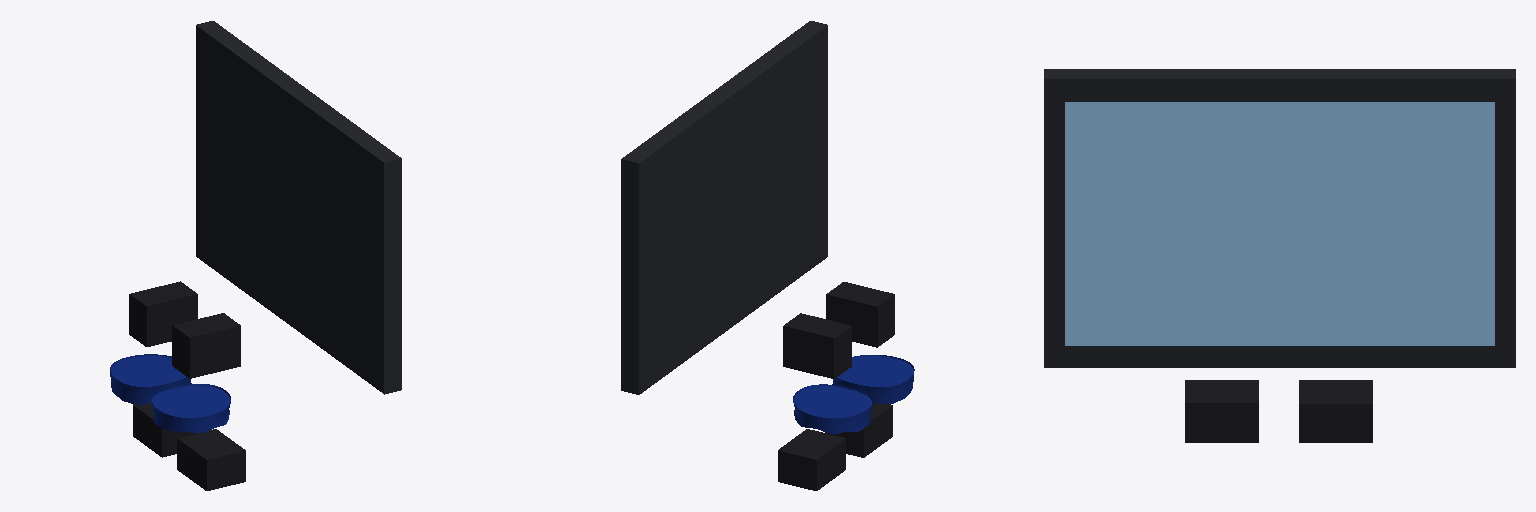
URDF robot description (haetburi):
<?xml version="1.0"?>
<!-- Haetburi biped (v14_xl330_hidden) - generated by tools/build_model.py, do not edit by hand -->
<robot name="haetburi">
  <mujoco>
    <compiler meshdir="." balanceinertia="true" discardvisual="false" strippath="false" fusestatic="false"/>
  </mujoco>
  <material name="display"><color rgba="0.18 0.19 0.21 1"/></material>
  <material name="screen"><color rgba="0.62 0.80 0.95 1"/></material>
  <material name="shell"><color rgba="0.106 0.216 0.541 1"/></material>
  <material name="motor"><color rgba="0.15 0.15 0.17 1"/></material>
  <material name="foot"><color rgba="0.25 0.25 0.28 1"/></material>
  <link name="world"/>
  <joint name="floating_base" type="floating">
    <parent link="world"/><child link="pelvis"/>
    <origin xyz="0 0 0" rpy="0 0 0"/>
  </joint>
  <link name="pelvis">
    <inertial>
      <origin xyz="0.013204 -6.80025e-05 0.0279184" rpy="0 0 0"/>
      <mass value="0.243447"/>
      <inertia ixx="0.000160081" ixy="-1.83796e-07" ixz="-1.12671e-05" iyy="0.000118431" iyz="-1.12016e-08" izz="0.00020895"/>
    </inertial>
    <visual><origin xyz="0 0 0" rpy="0 0 0"/><geometry><mesh filename="meshes/pelvis.stl"/></geometry><material name="shell"/></visual>
    <visual><origin xyz="0.00880265 0.0245857 0.033" rpy="0 0 0"/><geometry><box size="0.034 0.02 0.026"/></geometry><material name="motor"/></visual>
    <visual><origin xyz="0.00879735 -0.024889 0.033" rpy="0 0 0"/><geometry><box size="0.034 0.02 0.026"/></geometry><material name="motor"/></visual>
    <collision><origin xyz="0.0074988 -0.000146911 0.02623" rpy="0 0 0"/><geometry><box size="0.089907 0.119391 0.05246"/></geometry></collision>
  </link>
  <link name="torso">
    <inertial>
      <origin xyz="0.0216135 0.000104354 0.130744" rpy="0 0 0"/>
      <mass value="2.17652"/>
      <inertia ixx="0.0357799" ixy="-0.000105021" ixz="0.00644111" iyy="0.035995" iyz="-0.000101018" izz="0.0196717"/>
    </inertial>
    <visual><origin xyz="0 0 0" rpy="0 0 0"/><geometry><mesh filename="meshes/torso.stl"/></geometry><material name="shell"/></visual>
    <visual><origin xyz="0.0843686 0 0.0406669" rpy="0 0 0"/><geometry><box size="0.011868 0.217236 0.146854"/></geometry><material name="display"/></visual>
    <visual><origin xyz="0.0903026 0 0.0406669" rpy="0 0 0"/><geometry><box size="0.0004 0.198144 0.12384"/></geometry><material name="screen"/></visual>
    <collision><origin xyz="-0.0391719 -1.82352e-06 0.0288995" rpy="0 0 0"/><geometry><box size="0.183869 0.124676 0.122779"/></geometry></collision>
    <collision><origin xyz="0.0478332 0.0965728 0.0582346" rpy="0 0 0"/><geometry><sphere radius="0.0698567"/></geometry></collision>
    <collision><origin xyz="0.0481639 -0.0967208 0.0582346" rpy="0 0 0"/><geometry><sphere radius="0.0697895"/></geometry></collision>
    <collision><origin xyz="-0.00600387 0.000307043 0.117894" rpy="0 0 0"/><geometry><sphere radius="0.119818"/></geometry></collision>
    <collision><origin xyz="-0.010462 -0.000141163 0.173068" rpy="0 0 0"/><geometry><sphere radius="0.138234"/></geometry></collision>
    <collision><origin xyz="-0.0159306 -0.000232984 0.22825" rpy="0 0 0"/><geometry><sphere radius="0.136633"/></geometry></collision>
    <collision><origin xyz="-0.0124975 0.000984204 0.28343" rpy="0 0 0"/><geometry><sphere radius="0.118808"/></geometry></collision>
    <collision><origin xyz="-0.00739515 0.00779025 0.338644" rpy="0 0 0"/><geometry><sphere radius="0.0846824"/></geometry></collision>
    <collision><origin xyz="-0.0135526 -0.00257485 0.393809" rpy="0 0 0"/><geometry><sphere radius="0.0491437"/></geometry></collision>
    <collision><origin xyz="0.0843686 0 0.0406669" rpy="0 0 0"/><geometry><box size="0.011868 0.217236 0.146854"/></geometry></collision>
  </link>
  <link name="leg_l">
    <inertial>
      <origin xyz="-0.000508975 -0.000183575 -0.0195231" rpy="0 0 0"/>
      <mass value="0.0225079"/>
      <inertia ixx="6.65119e-06" ixy="-5.81697e-09" ixz="1.20773e-07" iyy="5.40051e-06" iyz="5.6035e-08" izz="5.95579e-06"/>
    </inertial>
    <visual><origin xyz="0 0 0" rpy="0 0 0"/><geometry><mesh filename="meshes/leg_l.stl"/></geometry><material name="shell"/></visual>
    <collision><origin xyz="-5.688e-07 -7.84141e-06 -0.00614087" rpy="0 0 0"/><geometry><box size="0.0468988 0.0429672 0.0122817"/></geometry></collision>
  </link>
  <link name="foot_l">
    <inertial>
      <origin xyz="0.000570459 0.00729492 -0.00247672" rpy="0 0 0"/>
      <mass value="0.0748228"/>
      <inertia ixx="1.96951e-05" ixy="-9.29192e-07" ixz="-2.12843e-07" iyy="2.7127e-05" iyz="-1.3687e-06" izz="3.21932e-05"/>
    </inertial>
    <visual><origin xyz="0 0 0" rpy="0 0 0"/><geometry><mesh filename="meshes/foot_l.stl"/></geometry><material name="shell"/></visual>
    <visual><origin xyz="0 0.0088 5.38845e-19" rpy="0 0 0"/><geometry><box size="0.026 0.034 0.02"/></geometry><material name="motor"/></visual>
    <collision><origin xyz="0 0 0" rpy="0 0 0"/><geometry><mesh filename="meshes/foot_l.stl"/></geometry></collision>
  </link>
  <link name="leg_r">
    <inertial>
      <origin xyz="-0.000380039 0.000211182 -0.0194096" rpy="0 0 0"/>
      <mass value="0.0226203"/>
      <inertia ixx="6.72151e-06" ixy="-2.6397e-08" ixz="9.49715e-08" iyy="5.40501e-06" iyz="-6.45487e-08" izz="6.00873e-06"/>
    </inertial>
    <visual><origin xyz="0 0 0" rpy="0 0 0"/><geometry><mesh filename="meshes/leg_r.stl"/></geometry><material name="shell"/></visual>
    <collision><origin xyz="1.35836e-06 1.24311e-05 -0.00606212" rpy="0 0 0"/><geometry><box size="0.0468608 0.0430498 0.0121242"/></geometry></collision>
  </link>
  <link name="foot_r">
    <inertial>
      <origin xyz="0.000927024 -0.00706758 -0.0025199" rpy="0 0 0"/>
      <mass value="0.0746564"/>
      <inertia ixx="1.95107e-05" ixy="1.01942e-06" ixz="-2.354e-07" iyy="2.70292e-05" iyz="1.32726e-06" izz="3.20543e-05"/>
    </inertial>
    <visual><origin xyz="0 0 0" rpy="0 0 0"/><geometry><mesh filename="meshes/foot_r.stl"/></geometry><material name="shell"/></visual>
    <visual><origin xyz="0 -0.0088 5.38845e-19" rpy="0 0 0"/><geometry><box size="0.026 0.034 0.02"/></geometry><material name="motor"/></visual>
    <collision><origin xyz="0 0 0" rpy="0 0 0"/><geometry><mesh filename="meshes/foot_r.stl"/></geometry></collision>
  </link>
  <joint name="waist_fixed" type="fixed">
    <parent link="pelvis"/><child link="torso"/>
    <origin xyz="0 0 0.05246" rpy="0 0 0"/>
  </joint>
  <joint name="hip_yaw_l" type="revolute">
    <parent link="pelvis"/><child link="leg_l"/>
    <origin xyz="2.6481e-06 0.0245857 0" rpy="0 0 0"/>
    <axis xyz="0 0 1"/>
    <limit lower="-0.523599" upper="0.523599" effort="0.52" velocity="10.79"/>
    <dynamics damping="0.037142857142857144" friction="0.014857142857142859"/>
  </joint>
  <joint name="hip_yaw_r" type="revolute">
    <parent link="pelvis"/><child link="leg_r"/>
    <origin xyz="-2.6481e-06 -0.024889 0" rpy="0 0 0"/>
    <axis xyz="0 0 1"/>
    <limit lower="-0.523599" upper="0.523599" effort="0.52" velocity="10.79"/>
    <dynamics damping="0.037142857142857144" friction="0.014857142857142859"/>
  </joint>
  <joint name="ankle_roll_l" type="revolute">
    <parent link="leg_l"/><child link="foot_l"/>
    <origin xyz="0.0116813 -0.00742343 -0.03924" rpy="0 0 0"/>
    <axis xyz="1 0 0"/>
    <limit lower="-0.261799" upper="0.261799" effort="0.52" velocity="10.79"/>
    <dynamics damping="0.037142857142857144" friction="0.014857142857142859"/>
  </joint>
  <joint name="ankle_roll_r" type="revolute">
    <parent link="leg_r"/><child link="foot_r"/>
    <origin xyz="0.0109417 0.00699945 -0.03924" rpy="0 0 0"/>
    <axis xyz="1 0 0"/>
    <limit lower="-0.261799" upper="0.261799" effort="0.52" velocity="10.79"/>
    <dynamics damping="0.037142857142857144" friction="0.014857142857142859"/>
  </joint>
</robot>

--- Facts derived from the render (not from the file) ---
Views: 3 orthographic renders of the robot side by side, from view 1: azimuth 30°, elevation 25°; view 2: azimuth 150°, elevation 25°; view 3: azimuth 270°, elevation 25°.
Robot: haetburi — 7 links, 6 joints (4 revolute, 1 fixed, 1 floating); root link world; default pose: all joints at 0.
Visible links, largest first — view 1: torso, pelvis, foot_r, leg_r, leg_l, foot_l; view 2: torso, pelvis, foot_l, leg_l, leg_r, foot_r; view 3: torso, foot_l, foot_r.
Boxes of the visible links, <box> form: torso: <box>196,21,401,394</box>; pelvis: <box>129,281,240,378</box>; foot_r: <box>177,429,245,490</box>; leg_r: <box>151,384,230,432</box>; leg_l: <box>110,354,191,404</box>; foot_l: <box>133,403,196,457</box>; torso: <box>621,21,827,394</box>; pelvis: <box>783,282,894,378</box>; foot_l: <box>778,429,845,490</box>; leg_l: <box>793,384,872,433</box>; leg_r: <box>832,355,914,403</box>; foot_r: <box>825,403,892,457</box>; torso: <box>1044,69,1515,367</box>; foot_l: <box>1299,380,1372,442</box>; foot_r: <box>1185,380,1258,442</box>.
Bounding box of the posed robot: 0.1139 × 0.2172 × 0.2158 m (x, y, z).
2 mesh visuals loaded from 6 distinct referenced files (2 binary STL); not drawn: 4 (reference not matched to a file when rendering).
